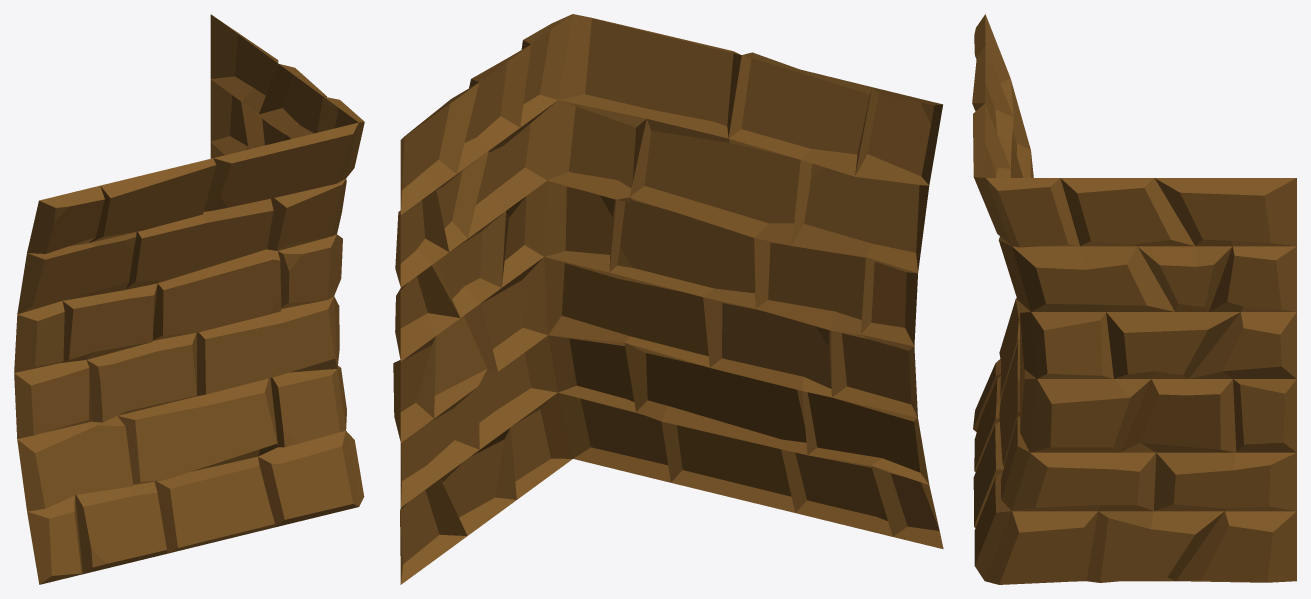
Rendered from Cave_Wall03.fbx.
The picture shows the model from 3 angles, left to right: view 1: azimuth 30°, elevation 25°; view 2: azimuth 150°, elevation 25°; view 3: azimuth 270°, elevation 25°; orthographic projection. The views are drawn at different scales.
Visible parts, largest first — view 1: Cave_Wall01.006; view 2: Cave_Wall01.006; view 3: Cave_Wall01.006.
Boxes of the visible parts, x1,y1,x2,y2 form: Cave_Wall01.006: [14, 14, 364, 584]; Cave_Wall01.006: [393, 14, 943, 584]; Cave_Wall01.006: [972, 14, 1296, 584].
Bounding box in the file's own units: 2754 × 3046 × 2222.
